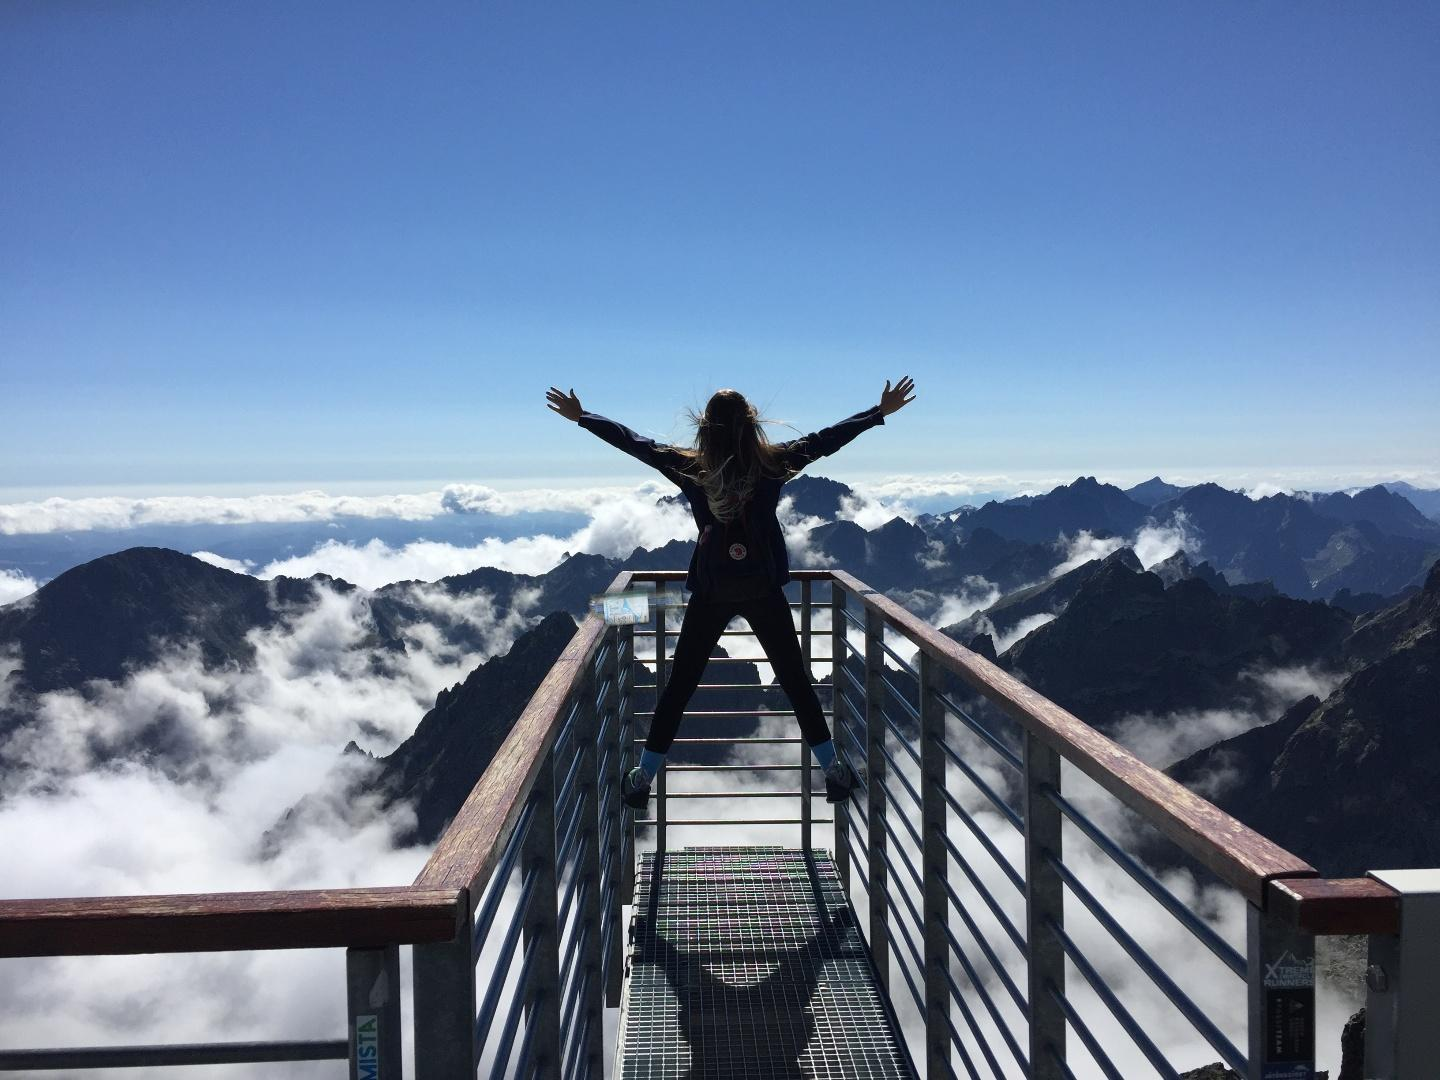glass: (582, 577, 708, 642)
